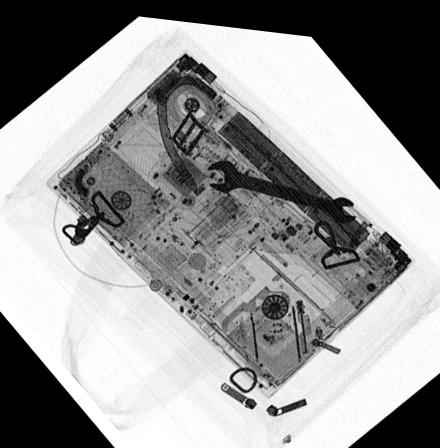Wrench: (204, 153, 358, 217)
